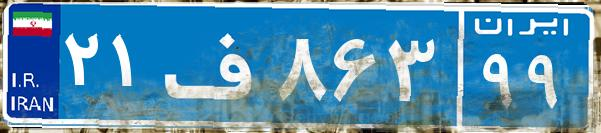1: (110, 28, 158, 105)
2: (57, 26, 110, 107)
3: (385, 28, 445, 110)
6: (330, 28, 385, 110)
8: (273, 28, 330, 110)
9: (475, 38, 525, 113), (525, 38, 570, 115)
ف: (158, 15, 273, 115)
